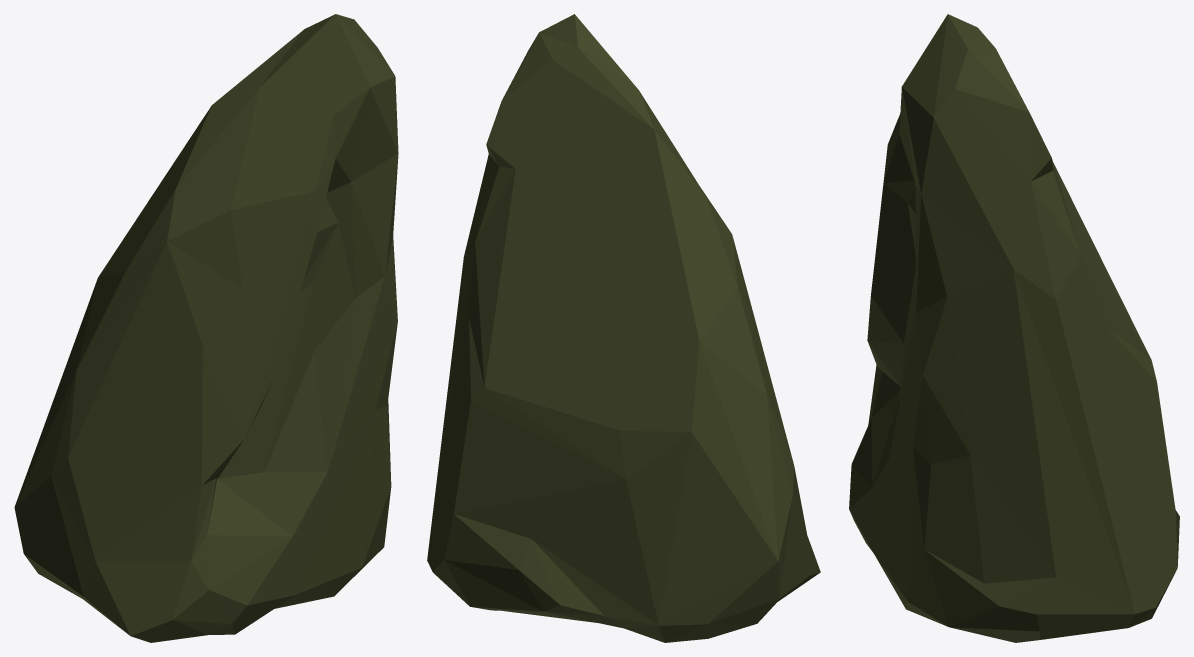
Rendered from SM_small_rock_21.fbx.
3 renders of one model, left to right at view 1: azimuth 30°, elevation 25°; view 2: azimuth 150°, elevation 25°; view 3: azimuth 270°, elevation 25°, orthographic. The views are drawn at different scales.
Parts seen in each view (by area): view 1: small_rock_21; view 2: small_rock_21; view 3: small_rock_21.
Part boxes in pixels (<box>): small_rock_21: <box>14,14,398,642</box>; small_rock_21: <box>427,14,820,642</box>; small_rock_21: <box>849,14,1179,642</box>.
Bounding box in the file's own units: 11.72 × 17.82 × 8.77.
